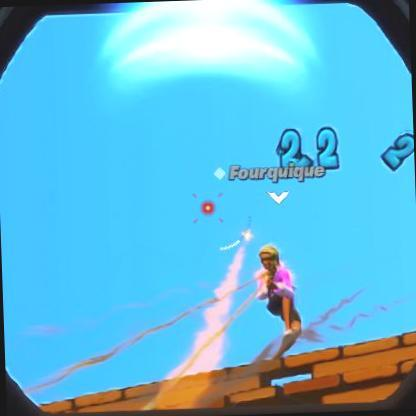person: (254, 243, 300, 350)
